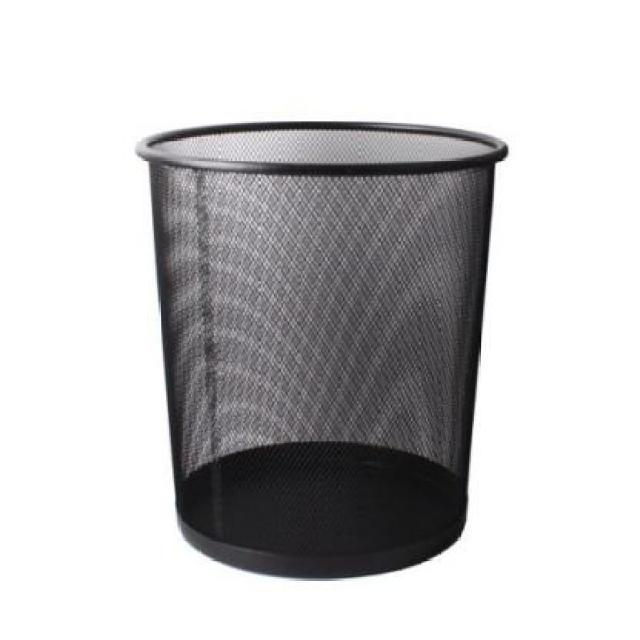dustbin: (131, 117, 514, 585)
